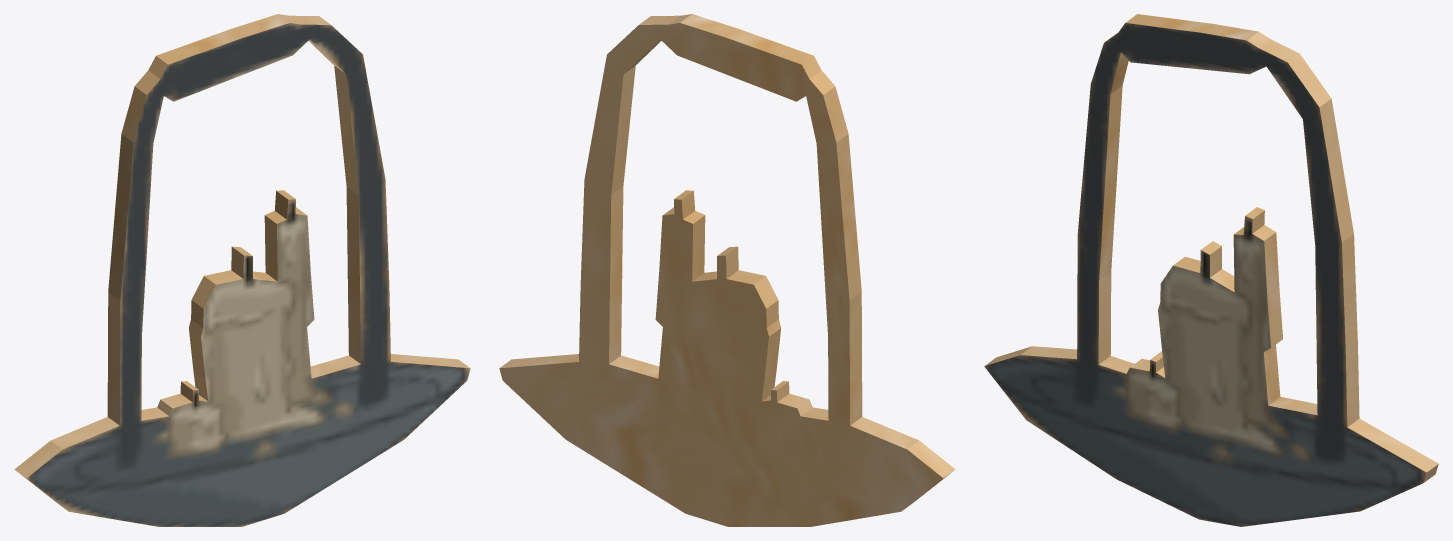
File: lampe.fbx
3 views of the same model, side by side, from view 1: azimuth 30°, elevation 25°; view 2: azimuth 150°, elevation 25°; view 3: azimuth 330°, elevation 25° (orthographic).
Visible parts, largest first — view 1: T_Sc_Eglise.013; view 2: T_Sc_Eglise.013; view 3: T_Sc_Eglise.013.
Part boxes in pixels (box(x1,y1,x2,y2)): T_Sc_Eglise.013: box(14, 14, 470, 526); T_Sc_Eglise.013: box(499, 14, 955, 526); T_Sc_Eglise.013: box(984, 14, 1438, 526).
Size of the model in its own units: 42.08 by 44.57 by 2.
